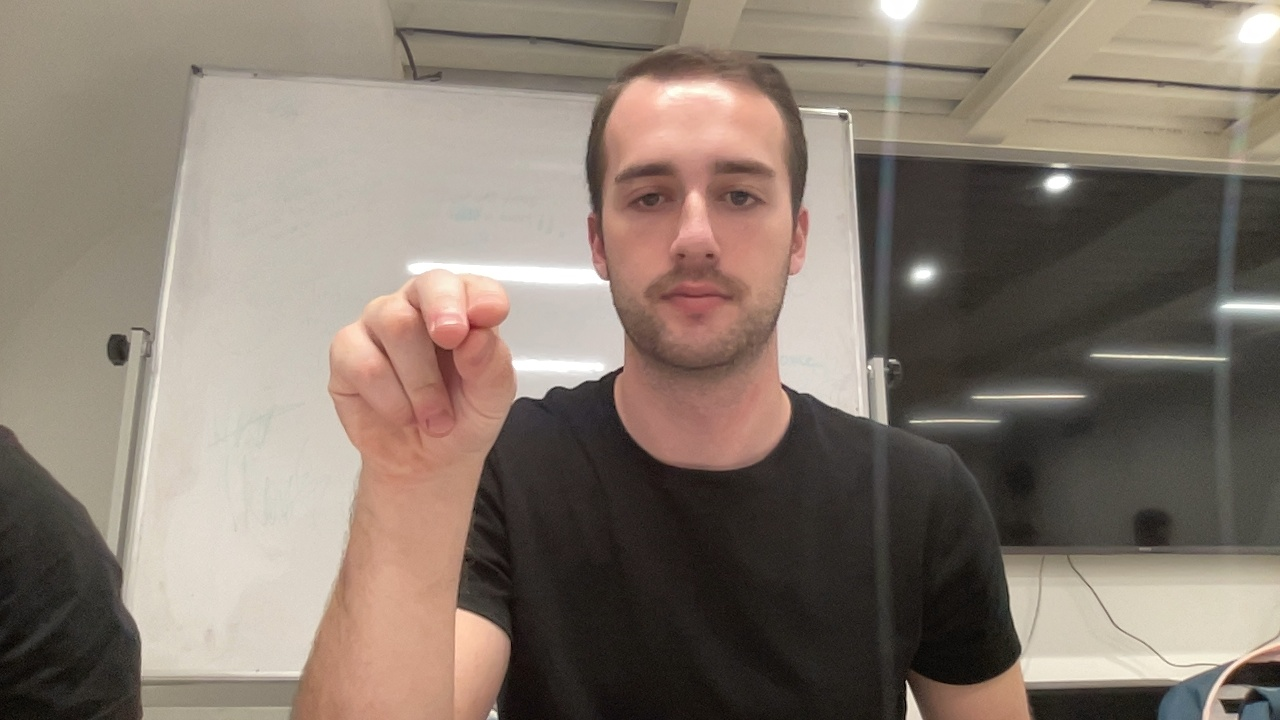No: (321, 255, 524, 510)
